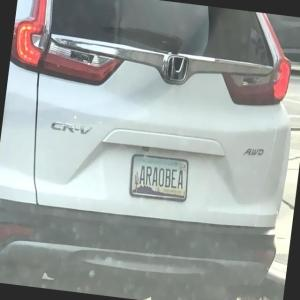Plate: (129, 153, 189, 202)
